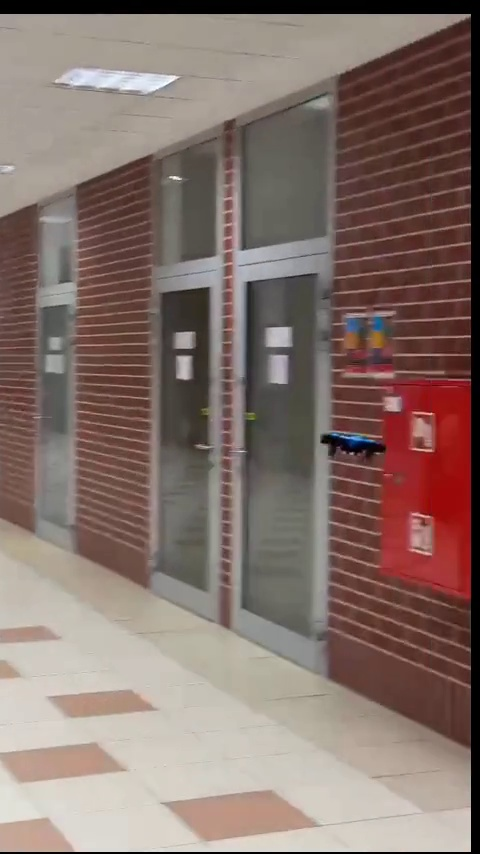drone: (321, 428, 391, 458)
